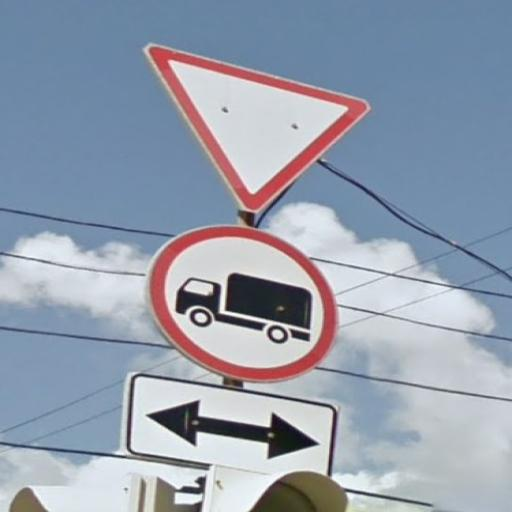traffic_sign: (143, 43, 371, 217), (151, 225, 341, 380)
